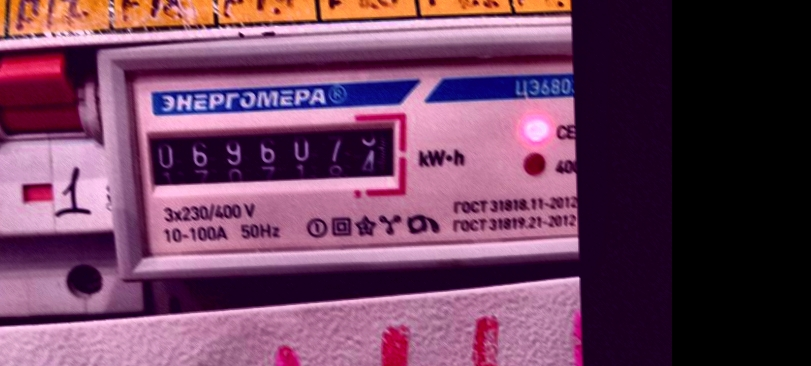0: (291, 132, 310, 162), (157, 140, 175, 169)
4: (359, 145, 377, 174)
6: (258, 134, 276, 163), (191, 138, 208, 167)
7: (325, 132, 345, 163)
9: (224, 137, 242, 166)
screen: (134, 109, 413, 201)
